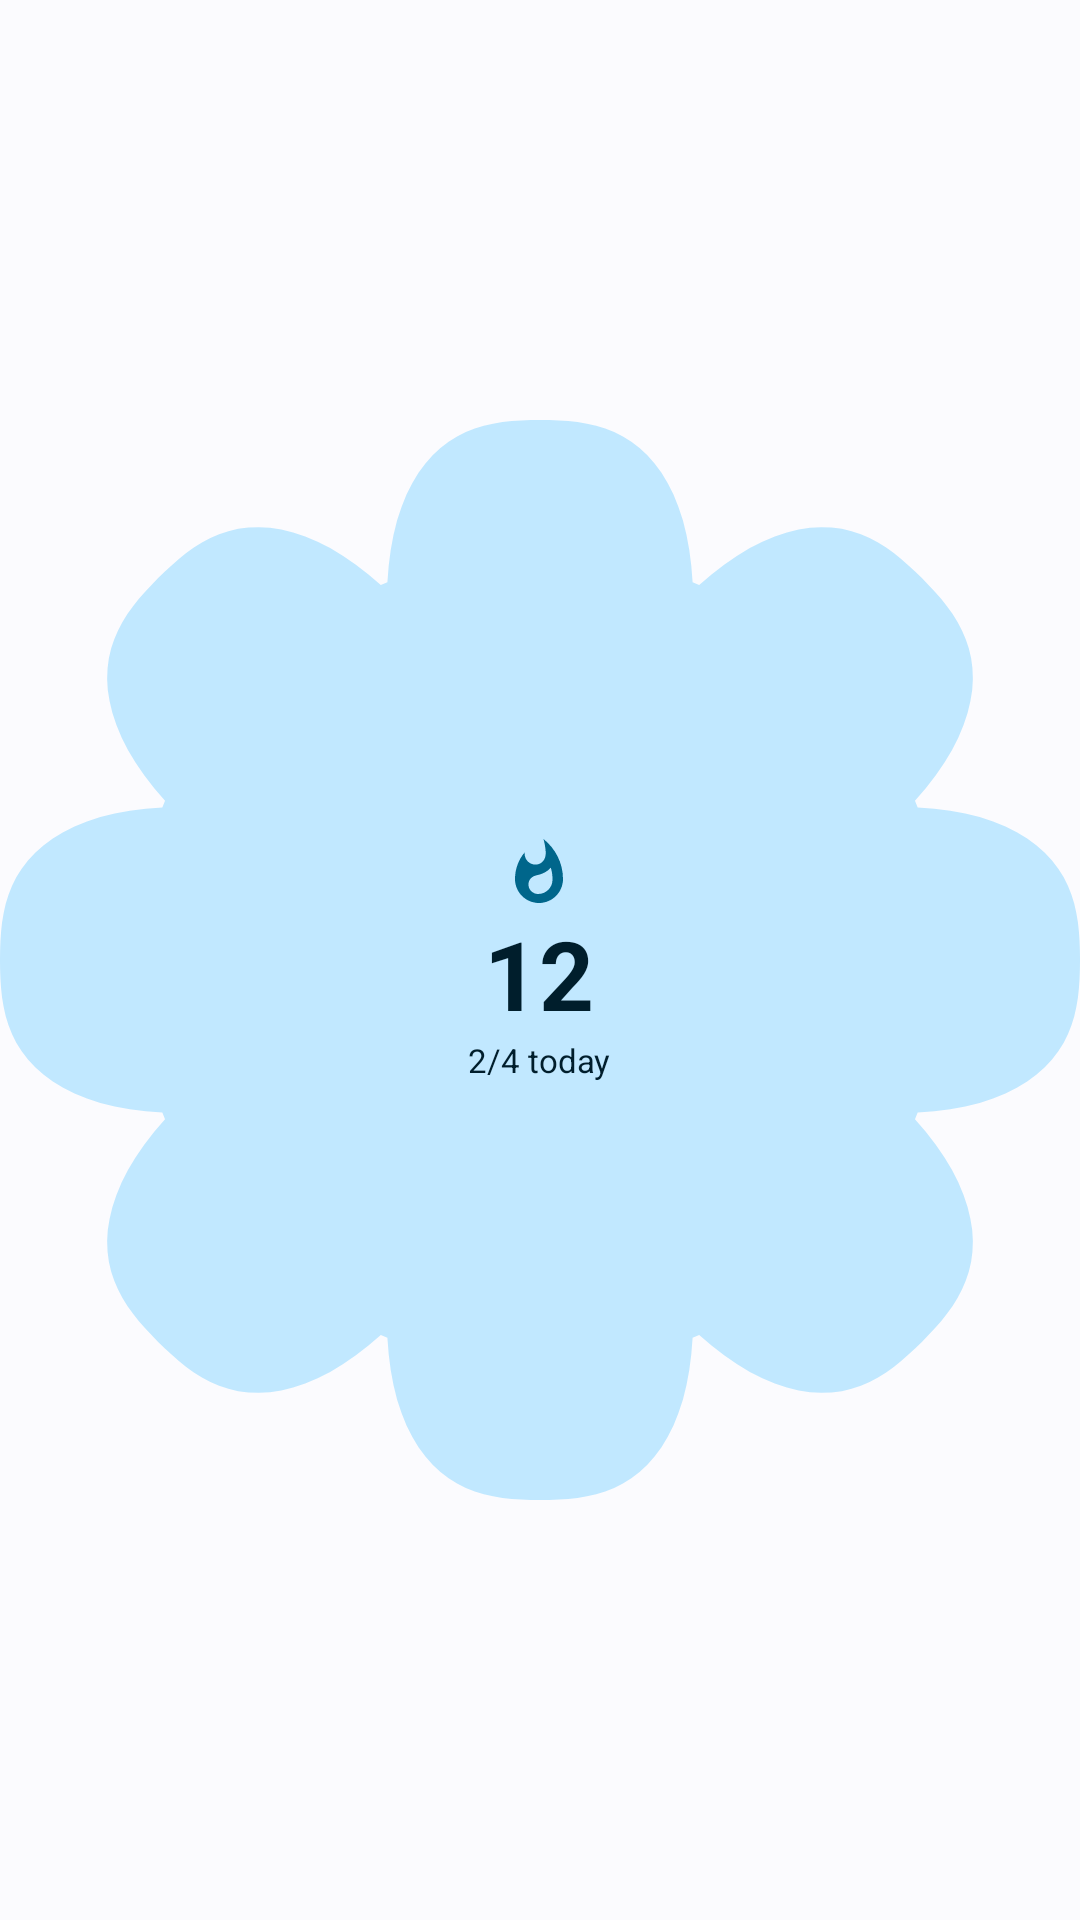

Screen size 1080 x 1920. Icon name, then its center in pixels as [x,y]:
flame: [539,871]
